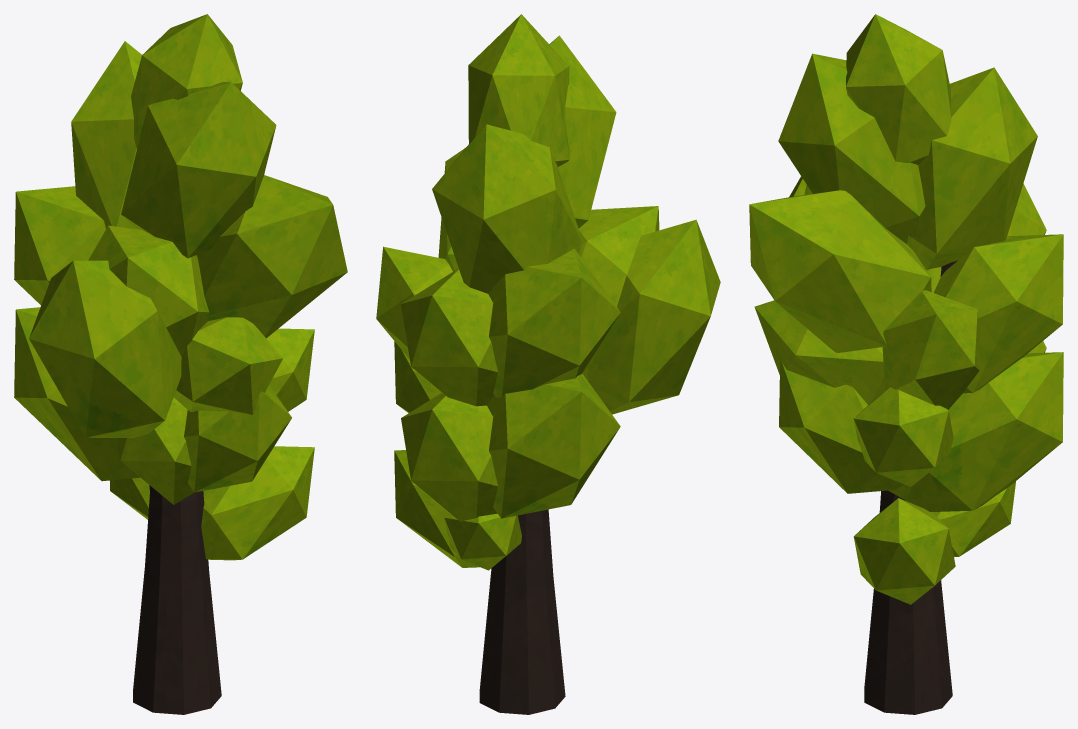
File: tree-bright-green-flowers_9.fbx
The picture shows the model from 3 angles, left to right: view 1: azimuth 30°, elevation 25°; view 2: azimuth 150°, elevation 25°; view 3: azimuth 270°, elevation 25°; orthographic projection. The views are drawn at different scales.
Visible parts, largest first — view 1: Icosphere.121; view 2: Icosphere.121; view 3: Icosphere.121.
Part boxes in pixels (x1,y1,x2,y2): Icosphere.121: [14, 14, 347, 714]; Icosphere.121: [376, 14, 720, 714]; Icosphere.121: [749, 14, 1063, 714].
Bounding box in the file's own units: 180 × 387 × 160.
